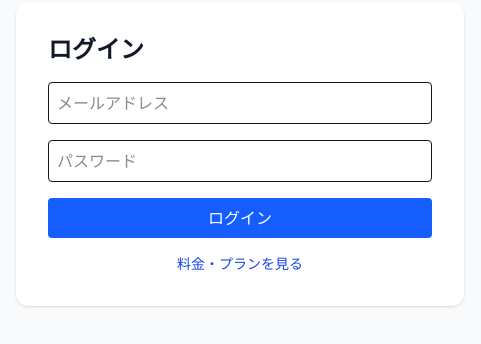
Test: login page › shows supabase error on failed login
Type "a@example.com" into the field with placeholder "メールアドレス".
click(240, 103); type("a@example.com")  # box x1=48 y1=82 x2=432 y2=124
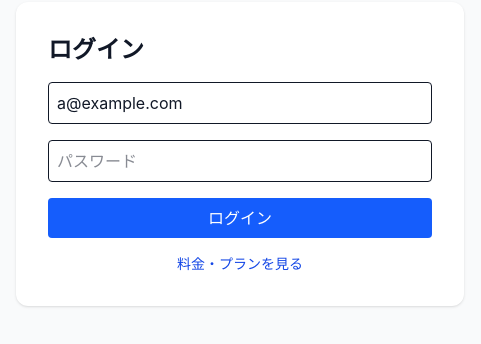
Type "wrong-password" into the password field with placeholder "パスワード".
click(240, 161); type("wrong-password")  # box x1=48 y1=140 x2=432 y2=182
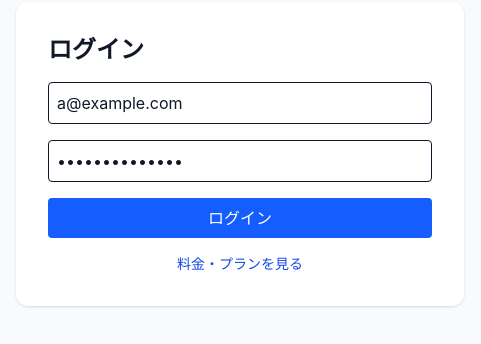
Click the button "ログイン".
click(240, 218)  # box x1=48 y1=198 x2=432 y2=238
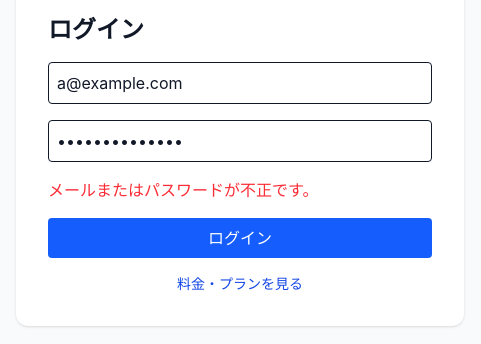
Result: the text "メールまたはパスワードが不正です。" is shown at x1=48 y1=180 x2=318 y2=200
